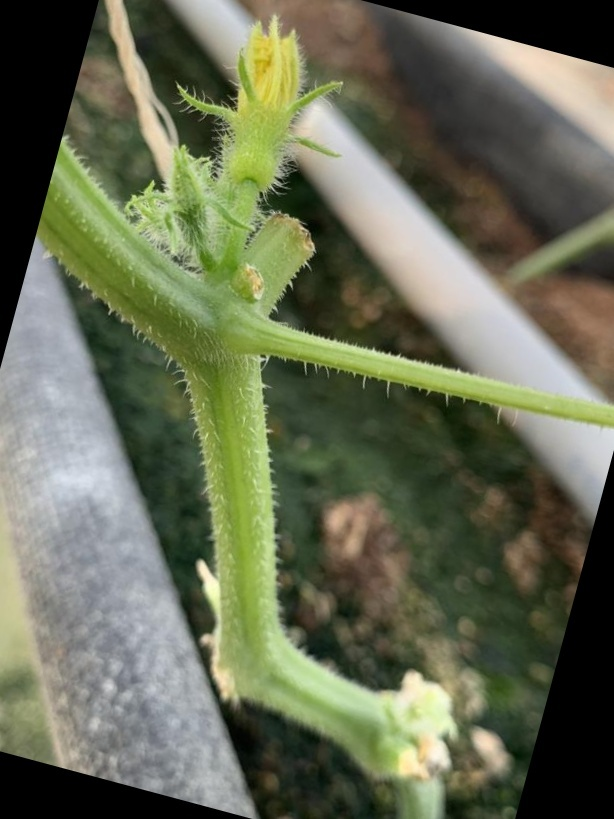bud: (190, 12, 340, 198)
